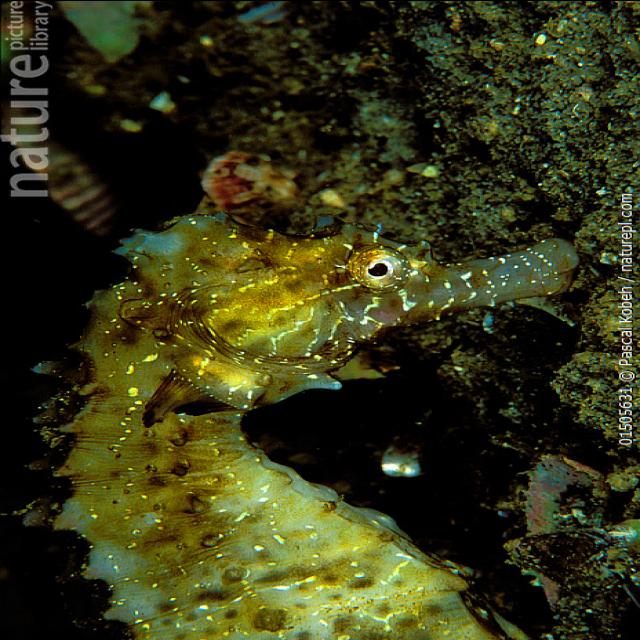Guttu: (89, 209, 585, 399)
